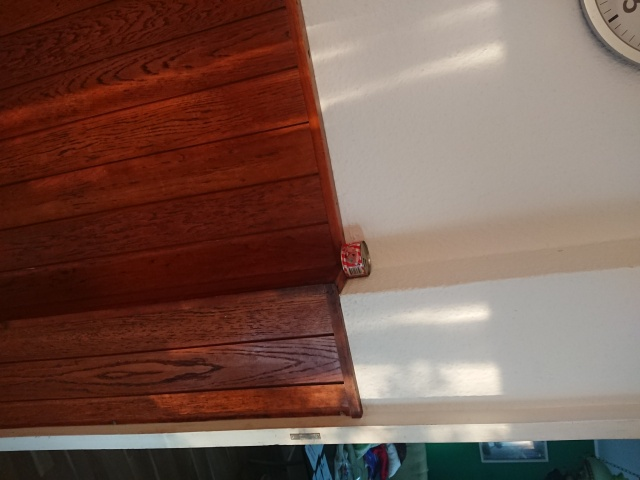Podravka Luncheon Meat 150g: (339, 238, 374, 281)
